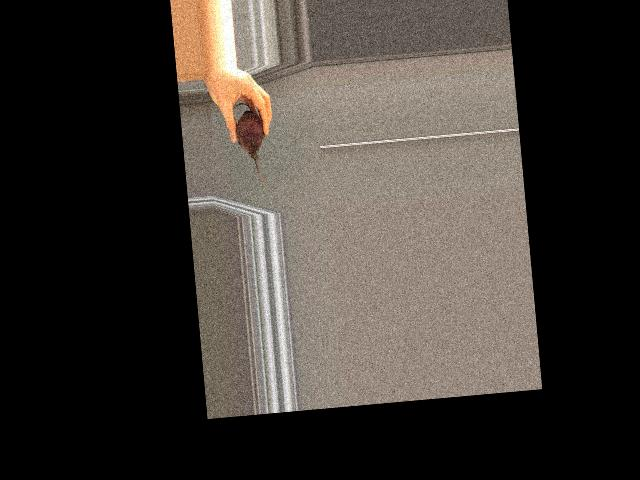beet: (232, 102, 268, 192)
